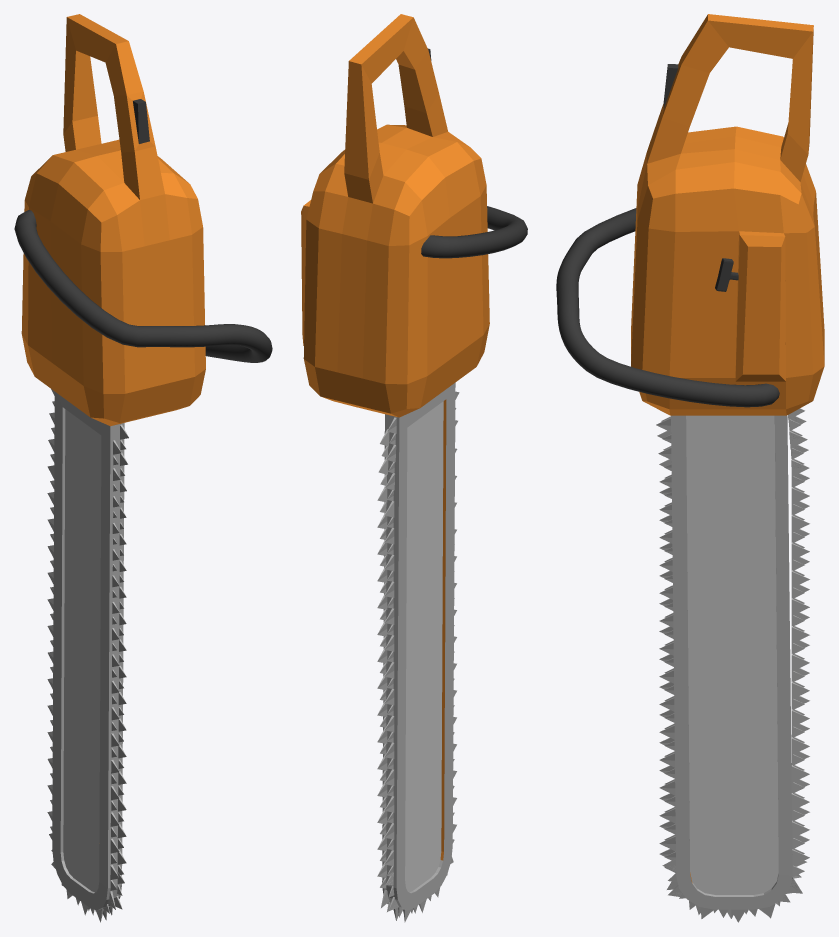
Rendered from saw1.glb.
The picture shows the model from 3 angles, left to right: view 1: azimuth 30°, elevation 25°; view 2: azimuth 150°, elevation 25°; view 3: azimuth 270°, elevation 25°; orthographic projection. The views are drawn at different scales.
Visible parts, largest first — view 1: Cube.001; view 2: Cube.001; view 3: Cube.001.
Boxes of the visible parts, <box> form: Cube.001: <box>14,14,272,922</box>; Cube.001: <box>301,14,527,922</box>; Cube.001: <box>556,14,824,922</box>.
Size of the model in its own units: 0.2693 by 1.25 by 0.3319.
